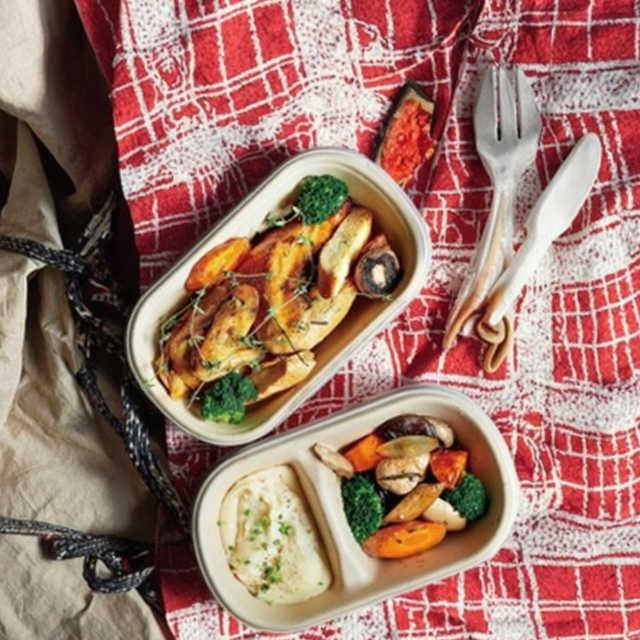food_waste: (216, 266, 318, 378), (296, 200, 398, 310), (359, 449, 475, 543)
